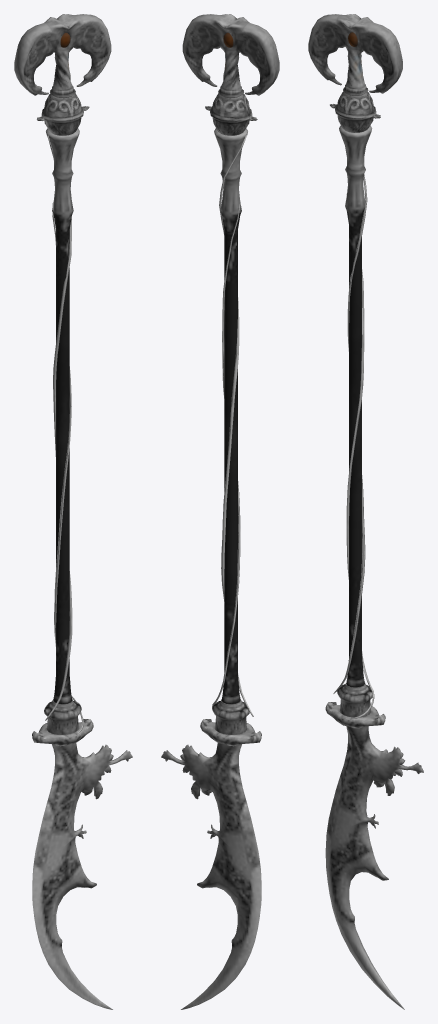
The model's file is weapon-wp_a_1016.glb.
3 renders of one model, left to right at view 1: azimuth 30°, elevation 25°; view 2: azimuth 150°, elevation 25°; view 3: azimuth 330°, elevation 25°, orthographic. The views are drawn at different scales.
Visible parts, largest first — view 1: wp_a_1016_mesh; view 2: wp_a_1016_mesh; view 3: wp_a_1016_mesh.
Boxes of the visible parts, x1,y1,x2,y2 form: wp_a_1016_mesh: [14, 14, 132, 1009]; wp_a_1016_mesh: [161, 14, 279, 1009]; wp_a_1016_mesh: [308, 14, 423, 1009].
Bounding box in the file's own units: 0.3528 × 2.92 × 0.1185.
2 materials, 2 textured.
